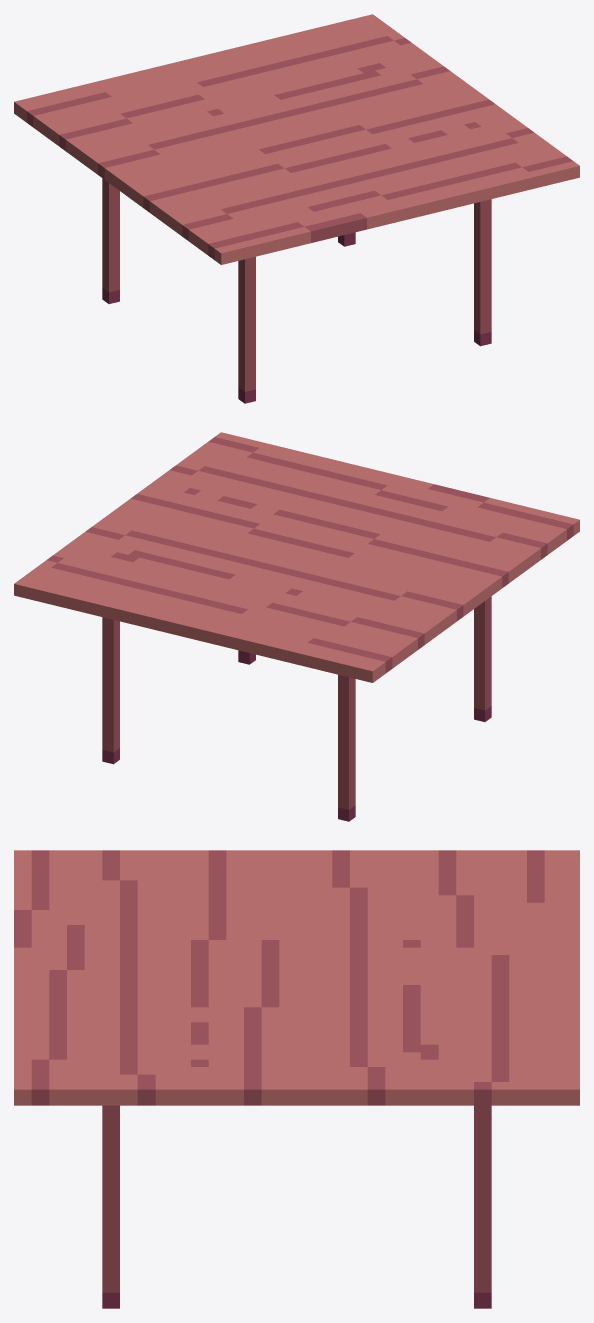
Rendered from table_2x2.obj.
3 renders of one model, top to bottom at view 1: azimuth 30°, elevation 25°; view 2: azimuth 150°, elevation 25°; view 3: azimuth 270°, elevation 25°, orthographic. The views are drawn at different scales.
Parts seen in each view (by area): view 1: table_2x2; view 2: table_2x2; view 3: table_2x2.
Part boxes in pixels (<box>): table_2x2: <box>14,14,579,403</box>; table_2x2: <box>14,432,579,821</box>; table_2x2: <box>14,850,579,1308</box>.
Size of the model in its own units: 9 by 4.5 by 9.
1 material, 1 textured.
